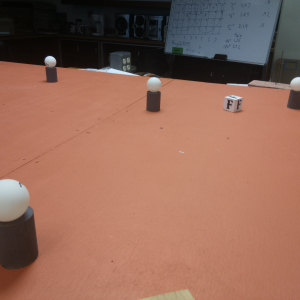blockF: (223, 94, 242, 112)
obstacle: (1, 179, 38, 270), (145, 77, 163, 115), (41, 55, 59, 83), (286, 76, 300, 111)
